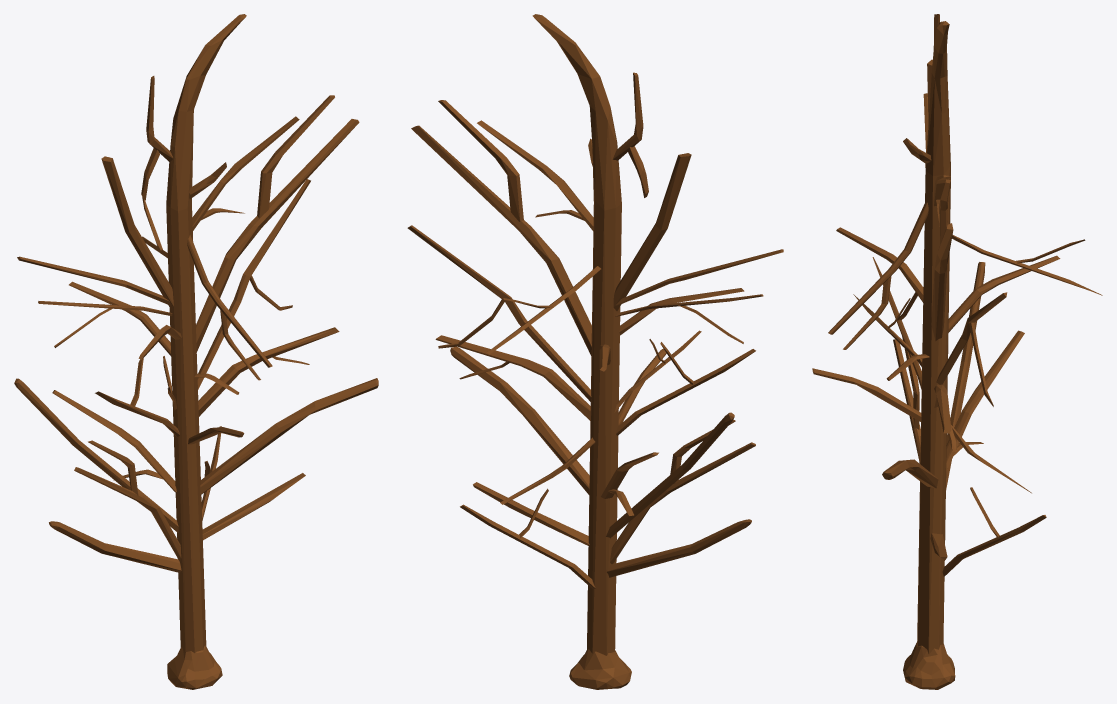
Rendered from rabamänd.fbx.
The picture shows the model from 3 angles, left to right: view 1: azimuth 30°, elevation 25°; view 2: azimuth 150°, elevation 25°; view 3: azimuth 270°, elevation 25°; orthographic projection. The views are drawn at different scales.
Visible parts, largest first — view 1: Cylinder.030; view 2: Cylinder.030; view 3: Cylinder.030.
Boxes of the visible parts, box(x1,y1,x2,y2) form: Cylinder.030: box(14, 14, 378, 689); Cylinder.030: box(407, 14, 783, 689); Cylinder.030: box(812, 14, 1102, 689).
Size of the model in its own units: 1495 by 2621 by 1008.
